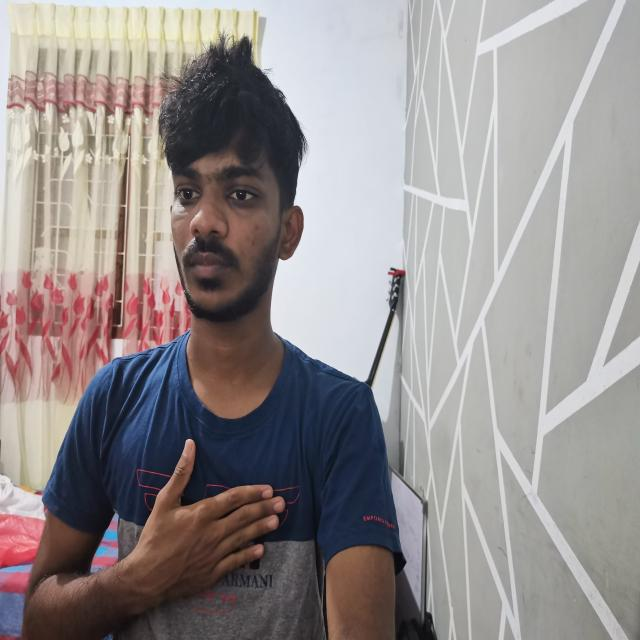Please: (22, 437, 296, 603)
